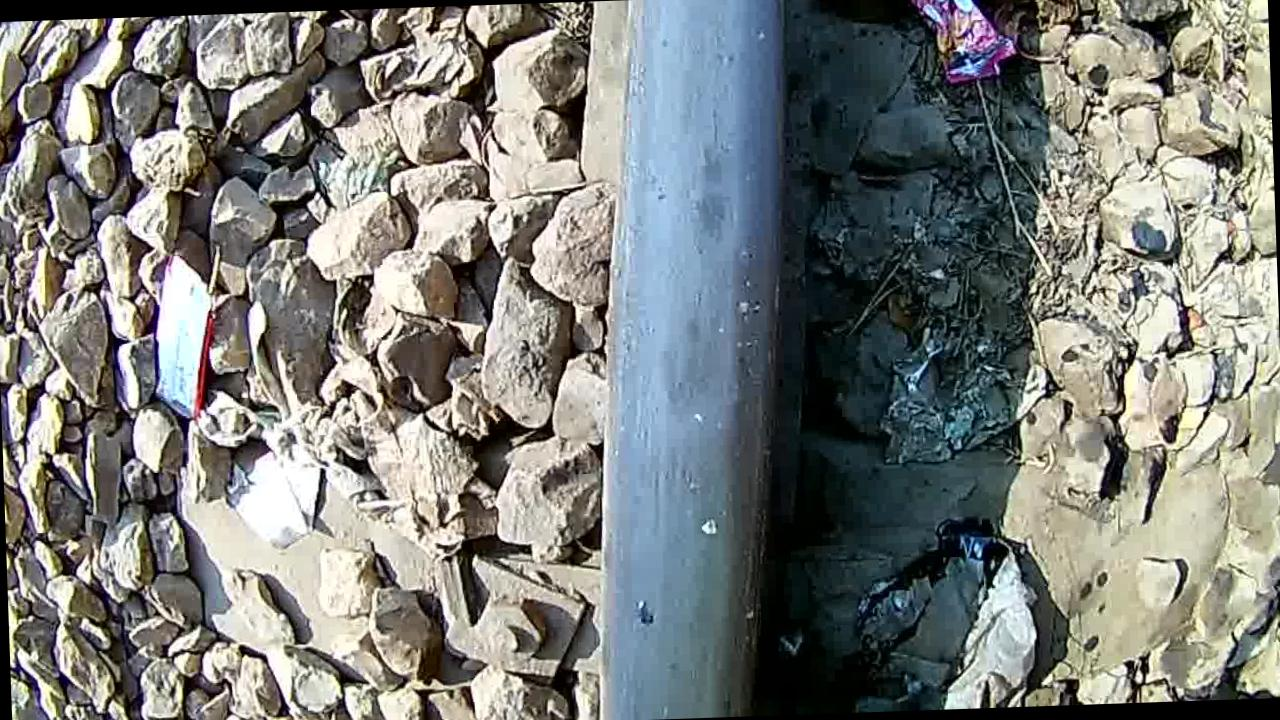bolt_missing: (609, 127, 805, 464)
